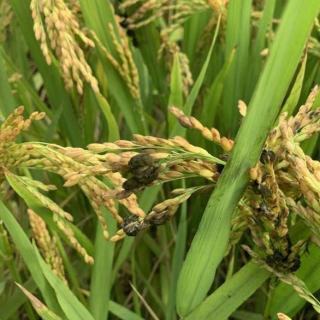Gosong-Palsu: (121, 152, 162, 190), (264, 232, 302, 272), (119, 212, 145, 238), (258, 148, 278, 166), (214, 152, 230, 172)
